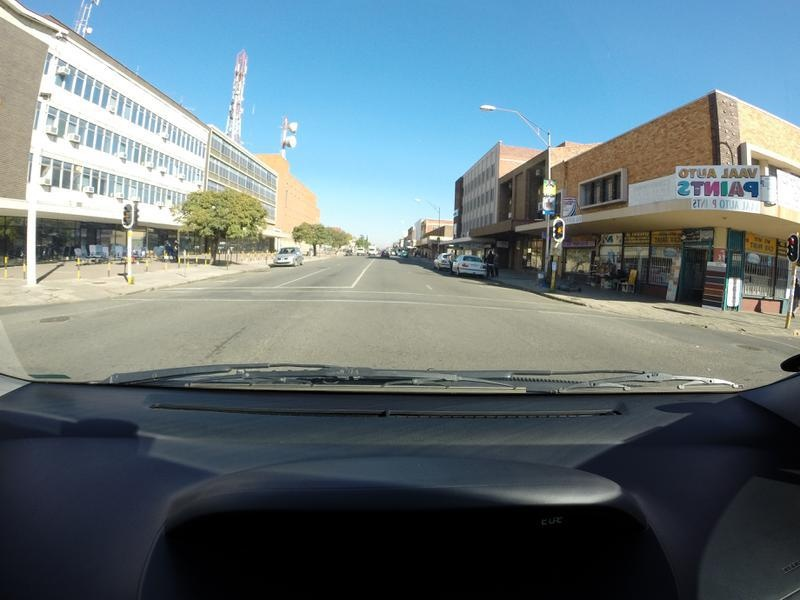pothole: (733, 343, 760, 354), (37, 316, 73, 321)
